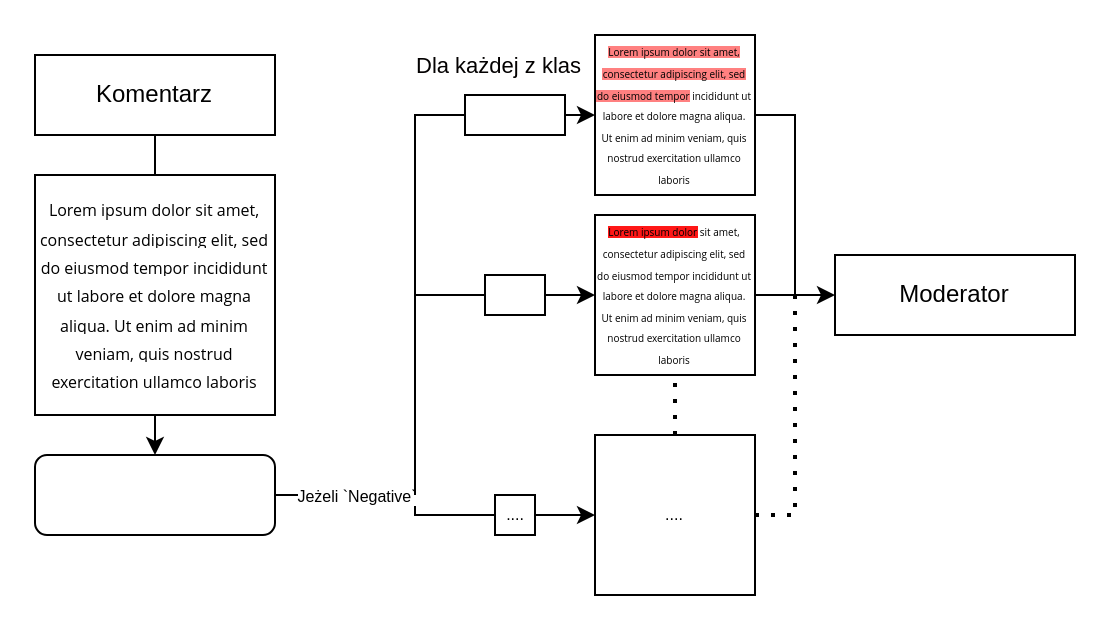
Some shapes in this 1110 by 630 pixel diagram are drawn without their labels. The centre of each missing label's shape, as x and y in pixels:
Model: pixel 154 494
Negative: pixel 514 114
Toxic: pixel 514 294
